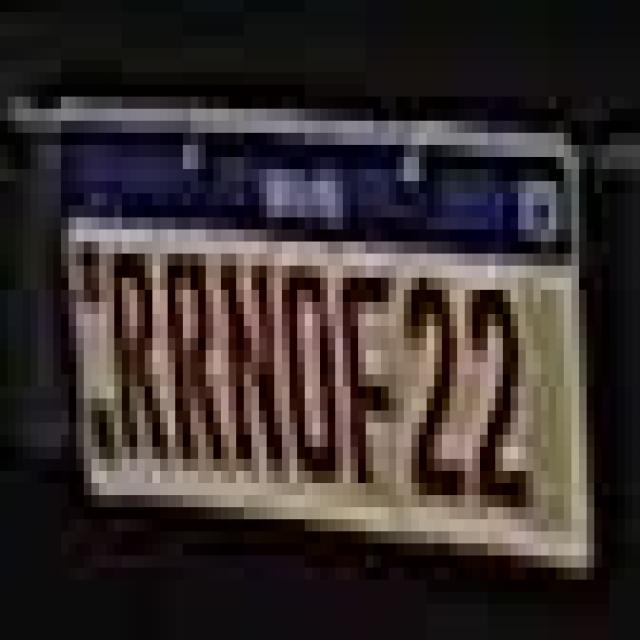F: (342, 264, 398, 507)
N: (222, 237, 284, 488)
O: (278, 247, 344, 499)
R: (100, 235, 170, 469), (160, 228, 228, 468)
